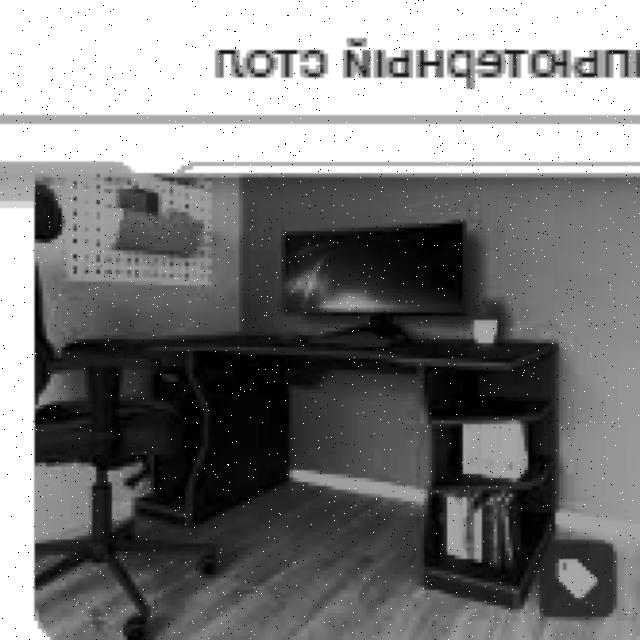table: (58, 328, 563, 609)
